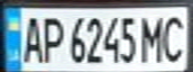2: (84, 12, 106, 64)
4: (103, 12, 124, 64)
5: (118, 12, 142, 64)
6: (63, 12, 87, 64)
A: (18, 12, 45, 64)
C: (160, 10, 190, 63)
M: (139, 11, 169, 63)
P: (36, 11, 66, 64)
